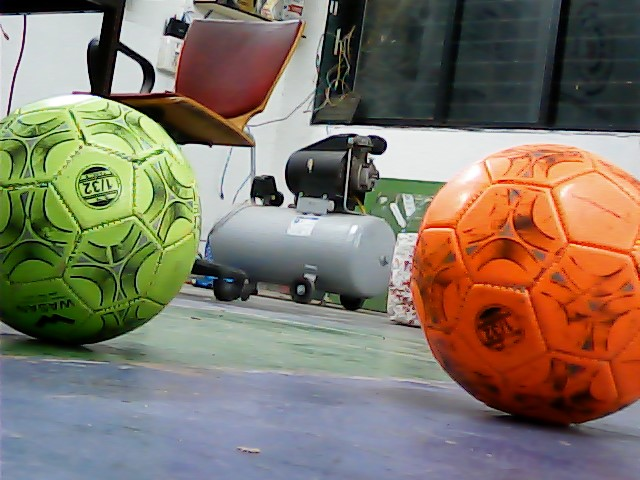Green_ball: (3, 94, 211, 359)
Orange_ball: (408, 143, 640, 429)
